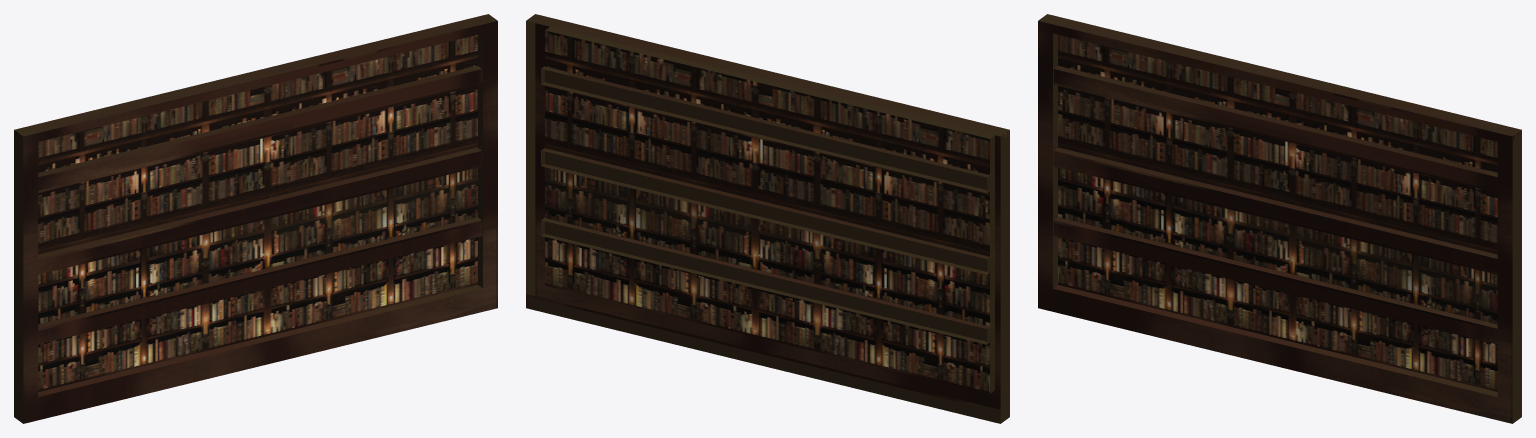
File: shelv.glb
3 views of the same model, side by side, from view 1: azimuth 30°, elevation 25°; view 2: azimuth 150°, elevation 25°; view 3: azimuth 330°, elevation 25° (orthographic).
Visible parts, largest first — view 1: woodshelv; view 2: woodshelv; view 3: woodshelv.
Part boxes in pixels (x1=…): woodshelv: x1=14, y1=14, x2=497, y2=423; woodshelv: x1=526, y1=14, x2=1009, y2=423; woodshelv: x1=1038, y1=14, x2=1521, y2=423.
Bounding box in the file's own units: 7.61 × 4.4 × 0.2597.
1 material, 1 textured.
